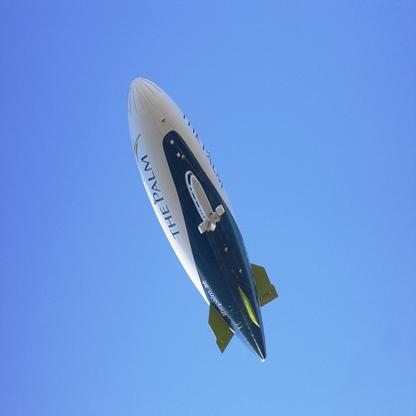Airship: (124, 74, 282, 367)
